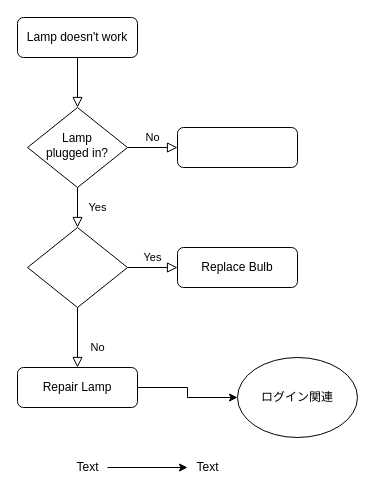
Some shapes in this 375 by 495 pixel diagram are drawn without their labels. Here are the shapes that lost their labels. From the top down, the centre of each, then its label:
At pixel 237 147: "Plug in lamp".
At pixel 77 267: "Bulb burned out?".
